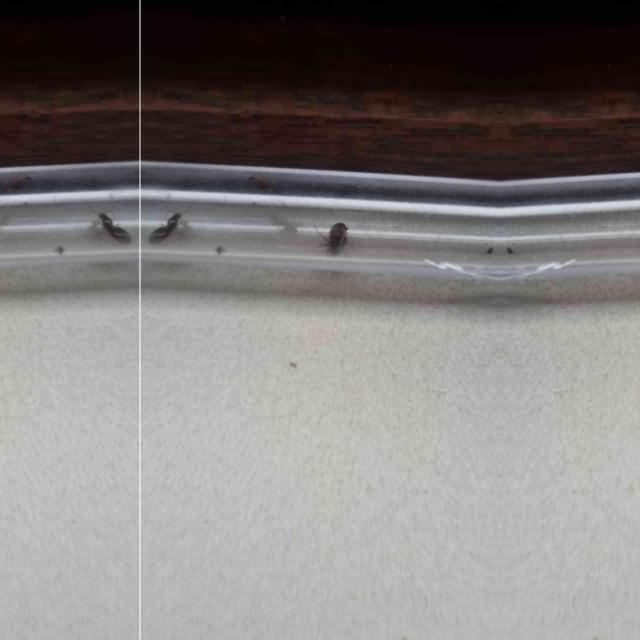Lasius: (90, 204, 138, 248), (143, 204, 190, 248), (316, 214, 349, 256)
